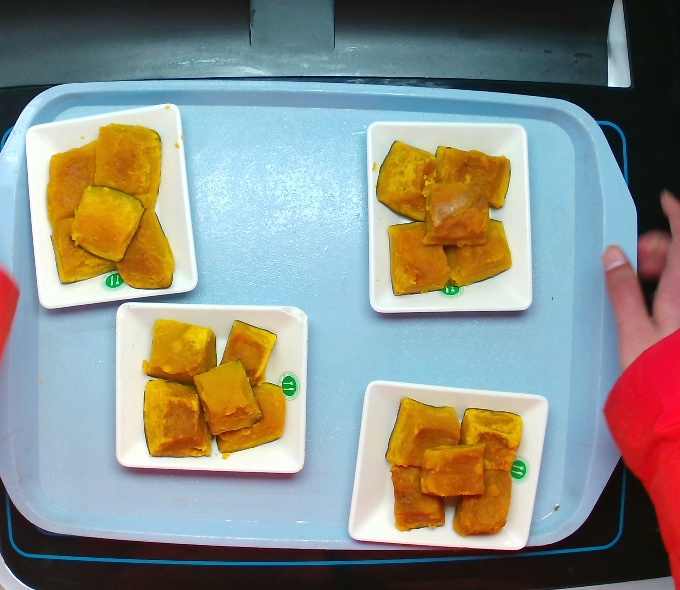wcq-RiBenNanGua: (34, 110, 188, 297), (374, 128, 522, 293), (138, 313, 294, 463), (382, 394, 524, 545)
